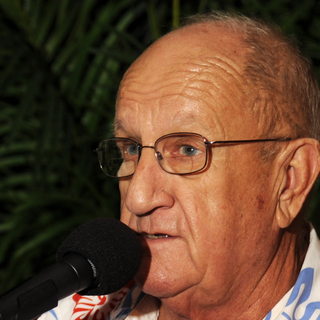eye: (167, 138, 210, 163), (115, 139, 148, 163)
